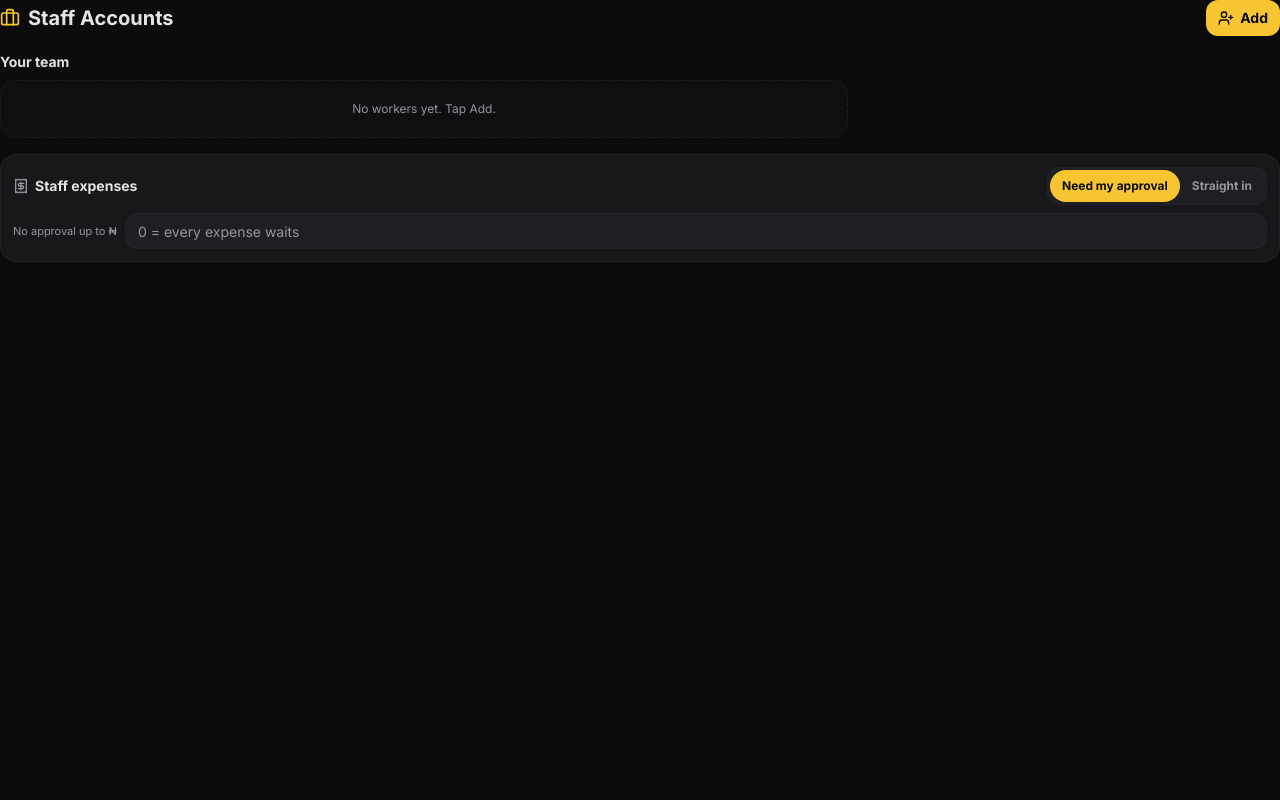
it: per-piece rates › start empty, with no rate the owner did not type
Later steps or results of the test are not shown.
Click the button with aria-label "Add Staff Member".
click(1243, 18)  # box [1206, 0, 1279, 36]
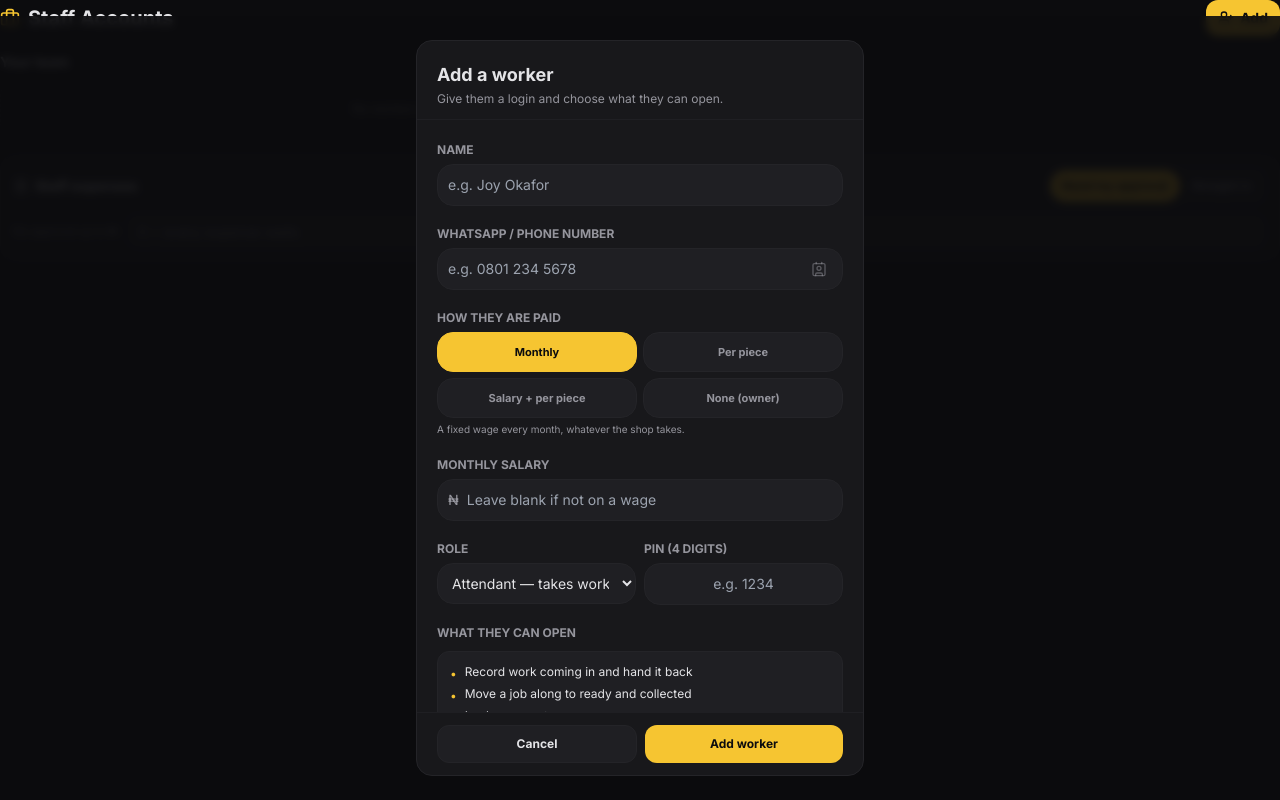
Click the button "Per piece".
click(743, 352)  # box [643, 332, 843, 372]
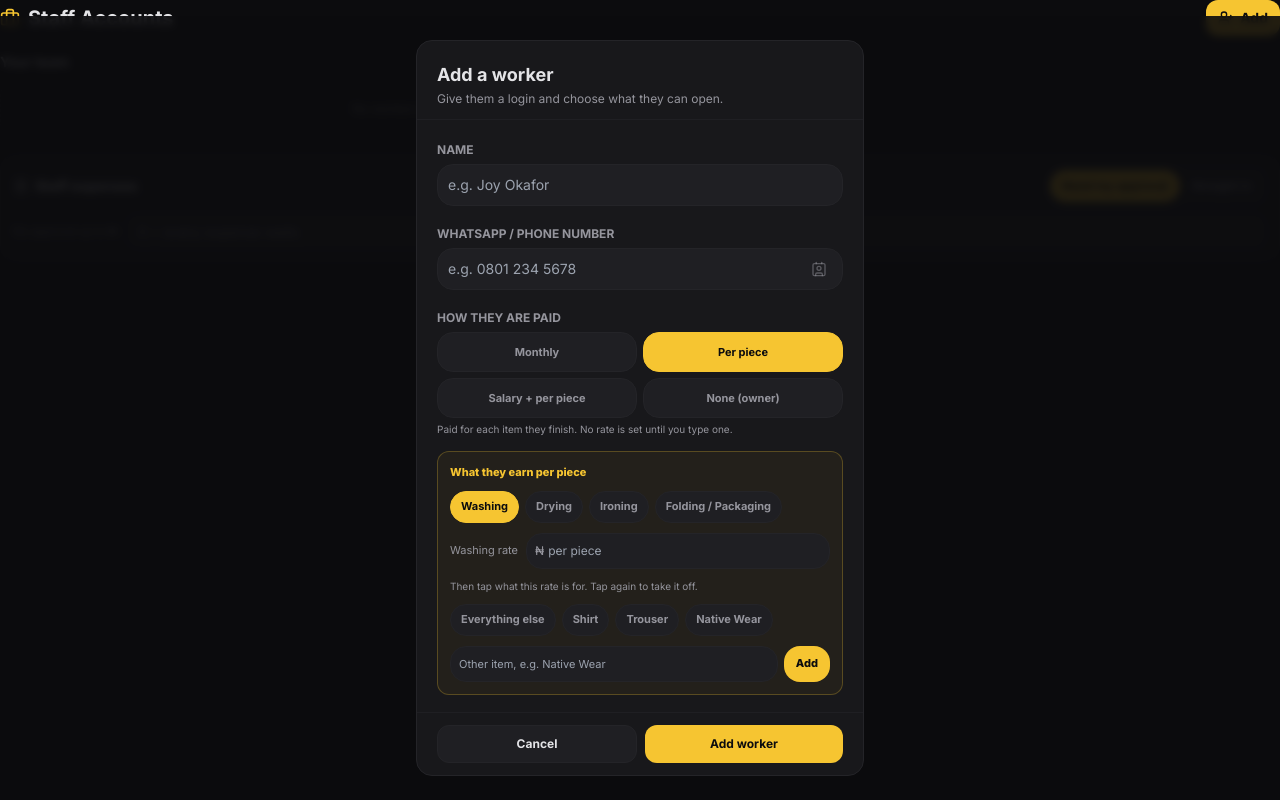
expect the field named "Rate per piece" is empty: met, box [548, 542, 821, 558]
